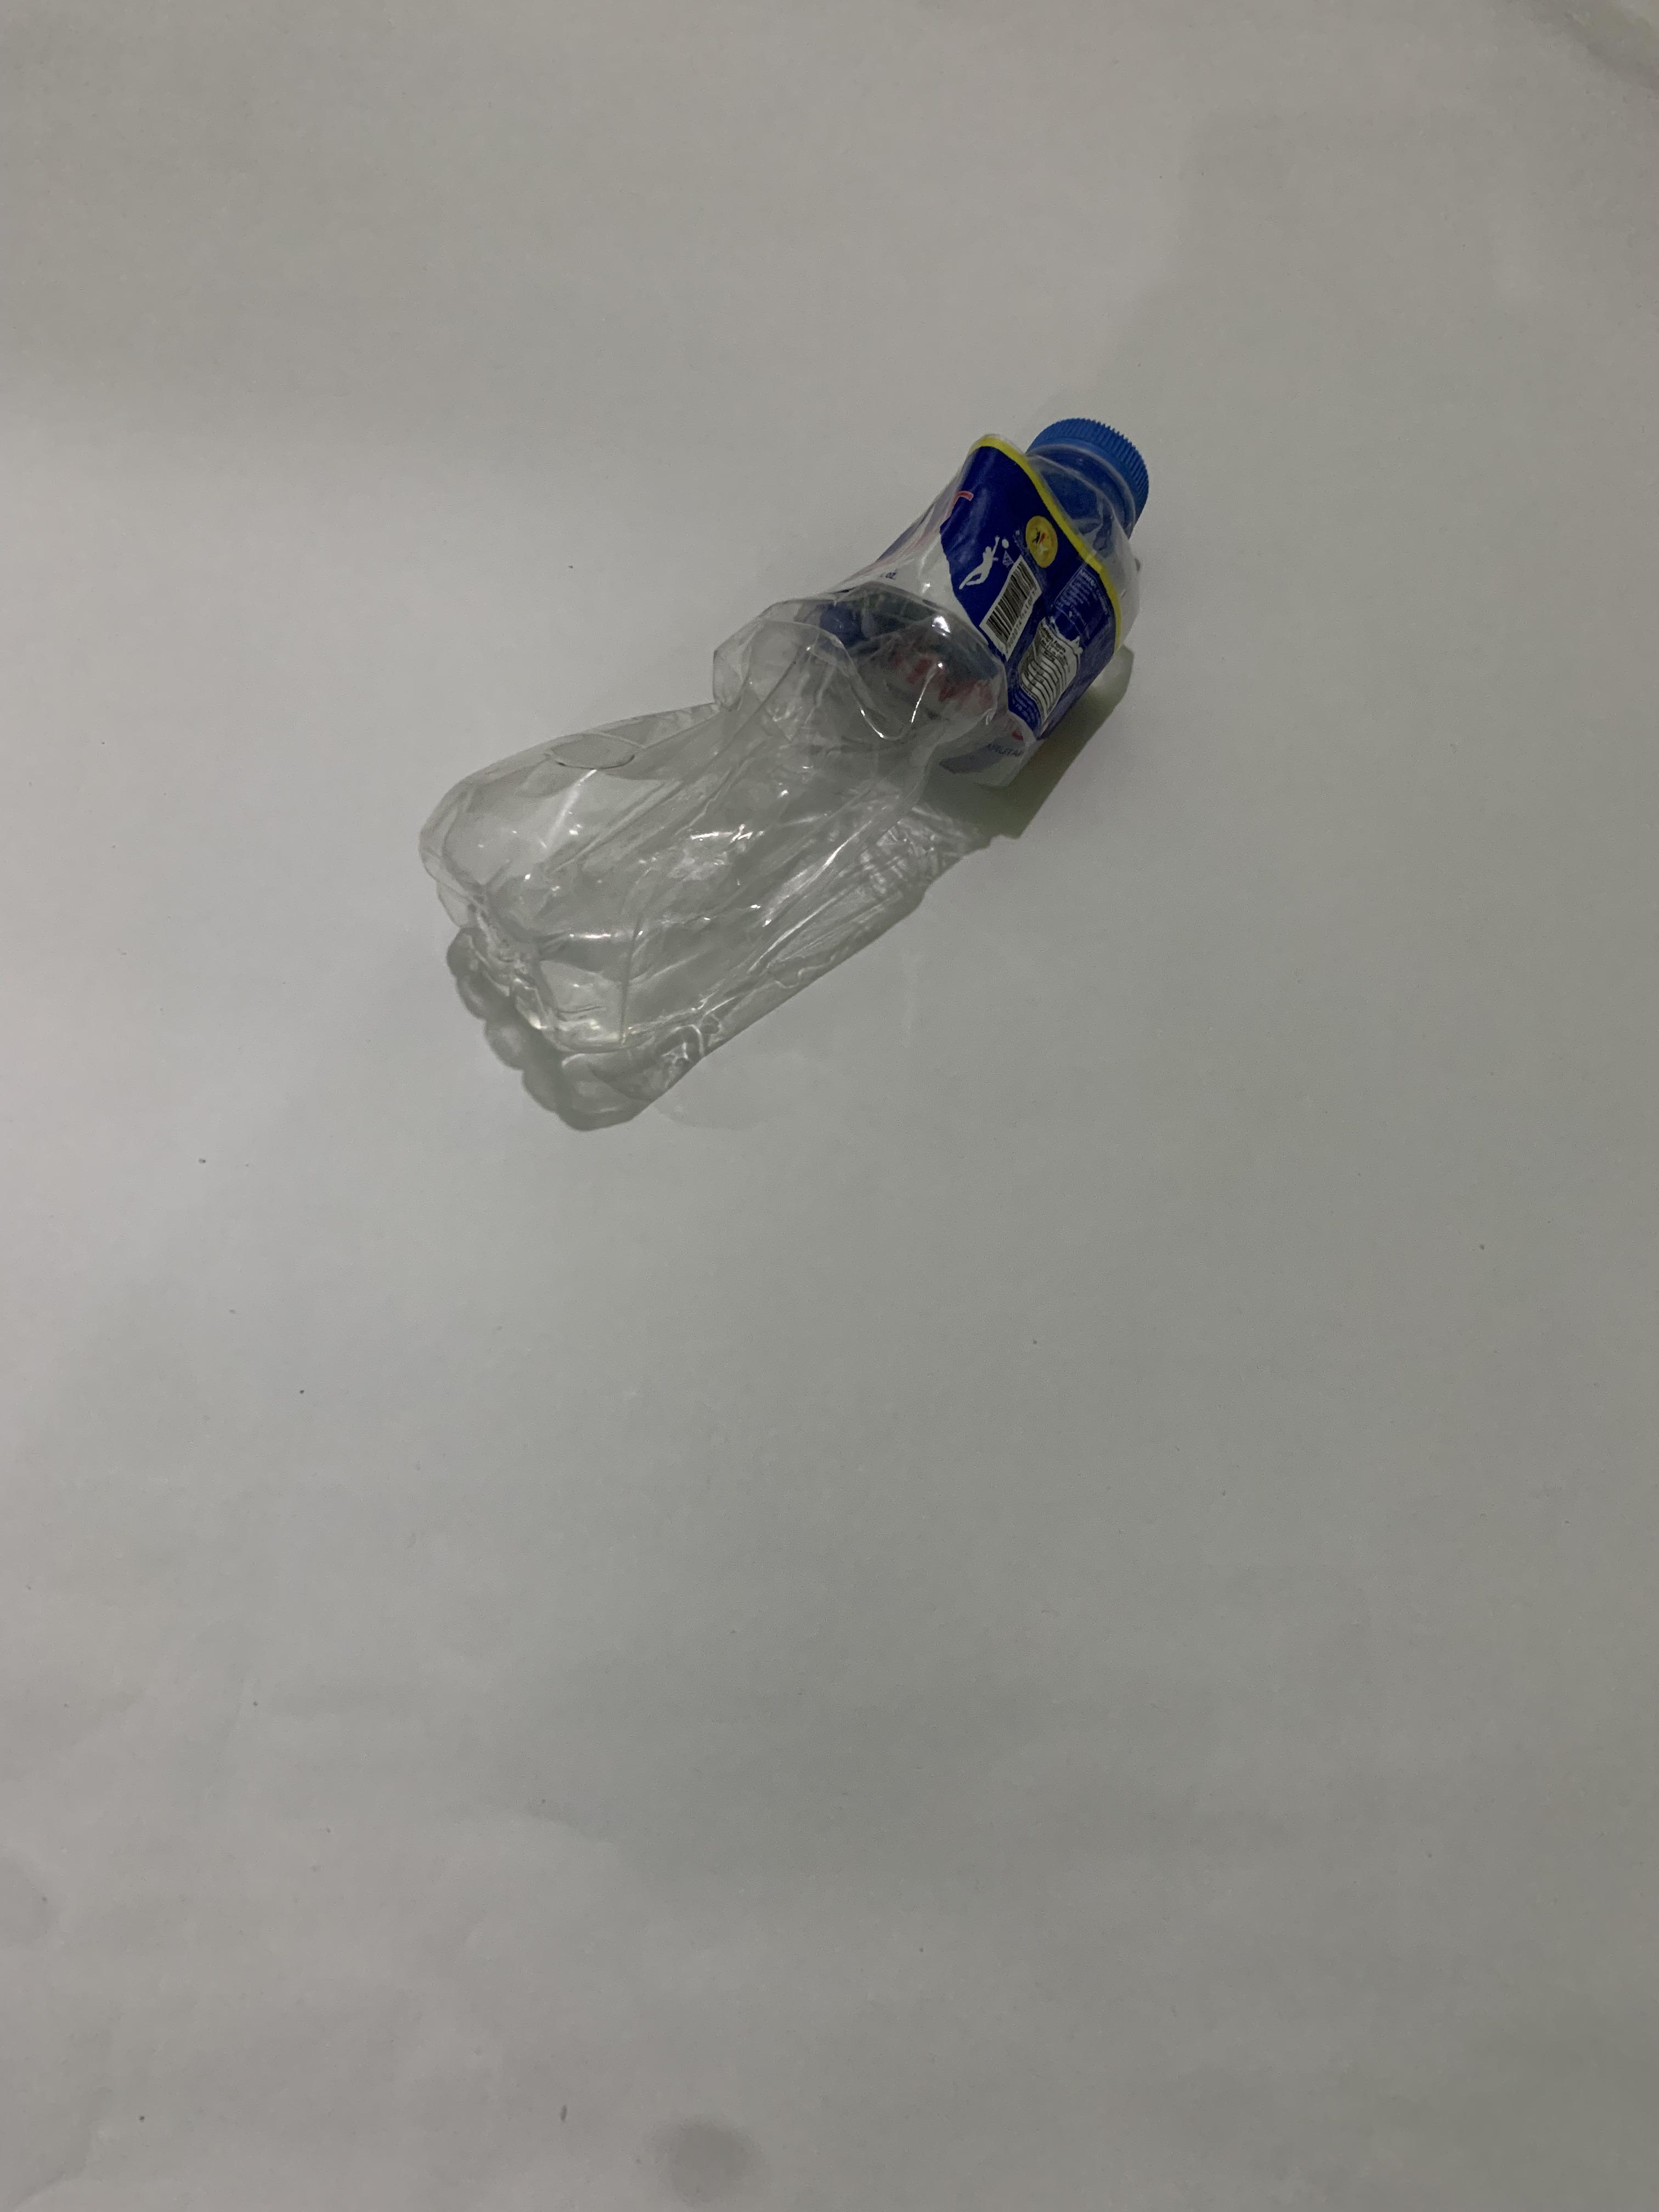bottle: (416, 395, 1147, 1141)
